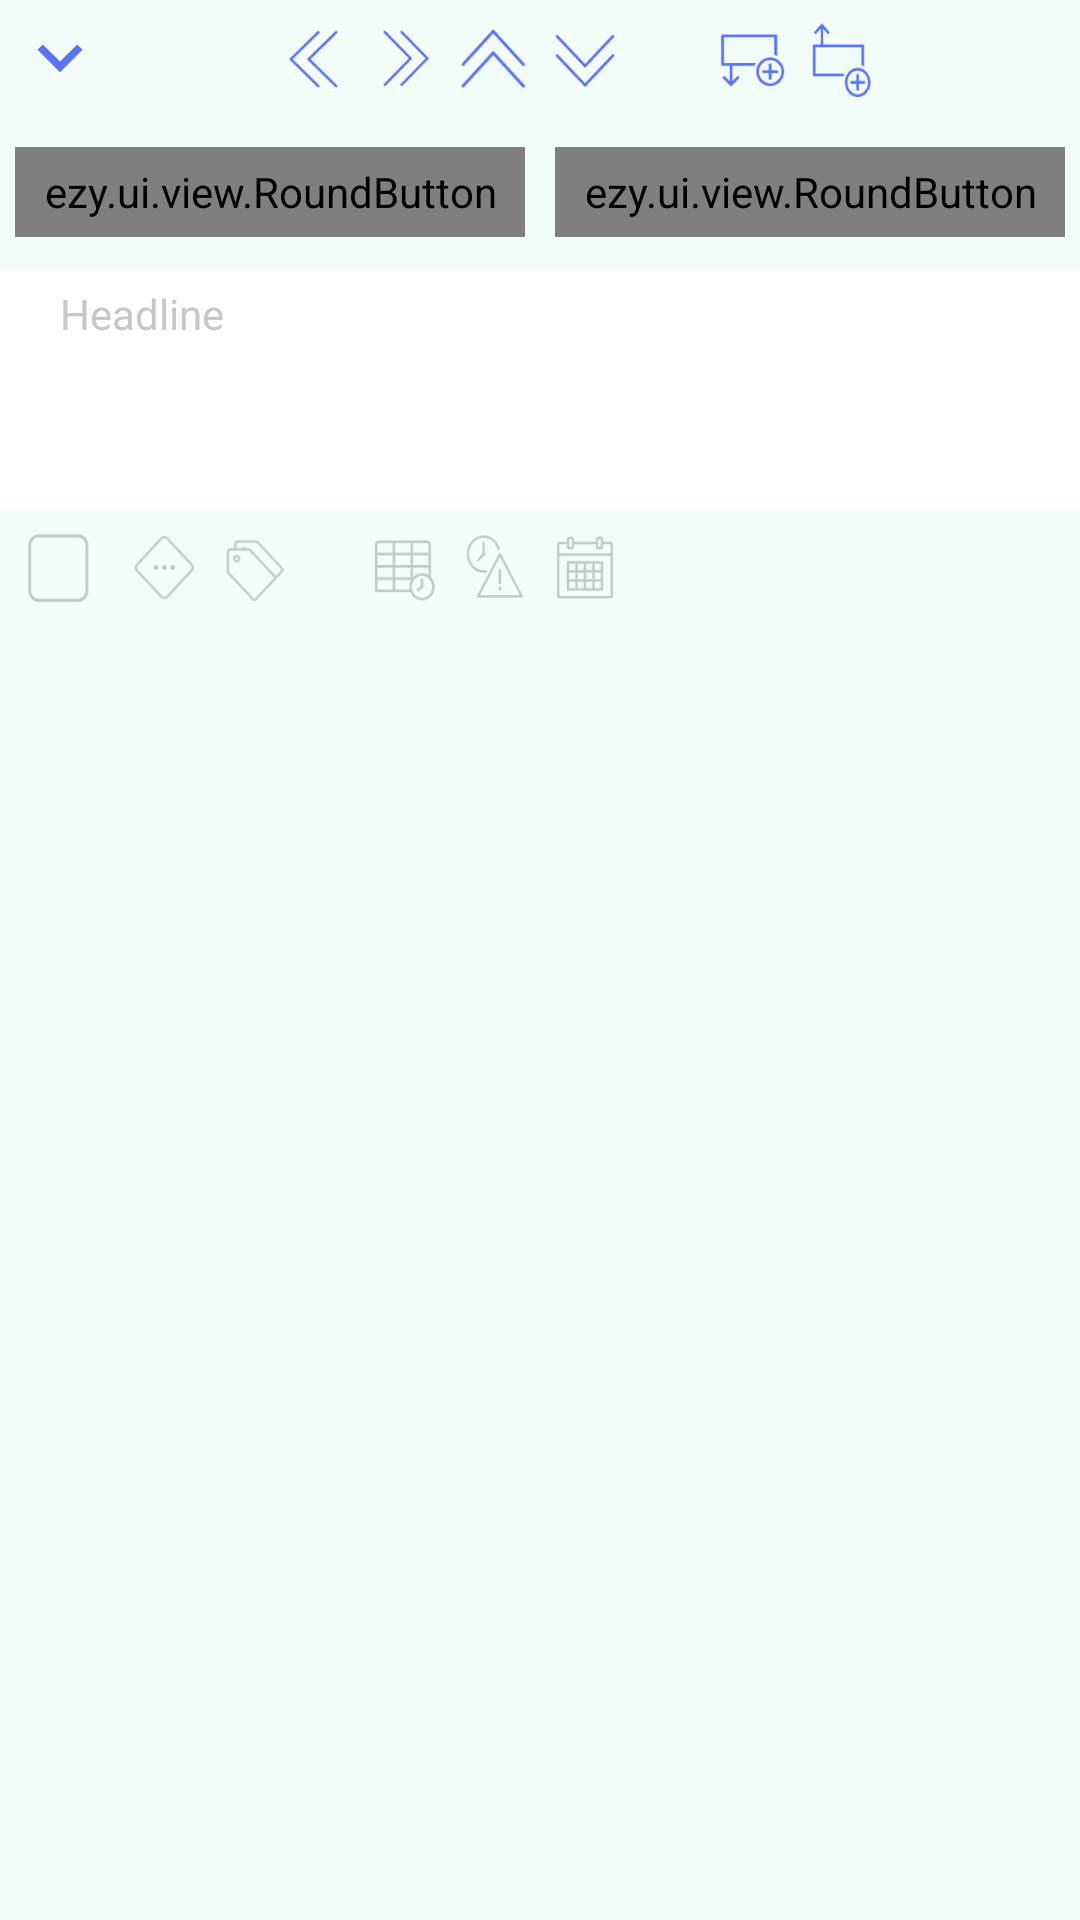

Where icons sit on this 1080w x 1920h app screen, as (x1, y1, x2, y2):
arrow down: (37, 44, 83, 72)
fileadd deadline: (467, 535, 523, 598)
fileadd tag: (227, 540, 284, 601)
